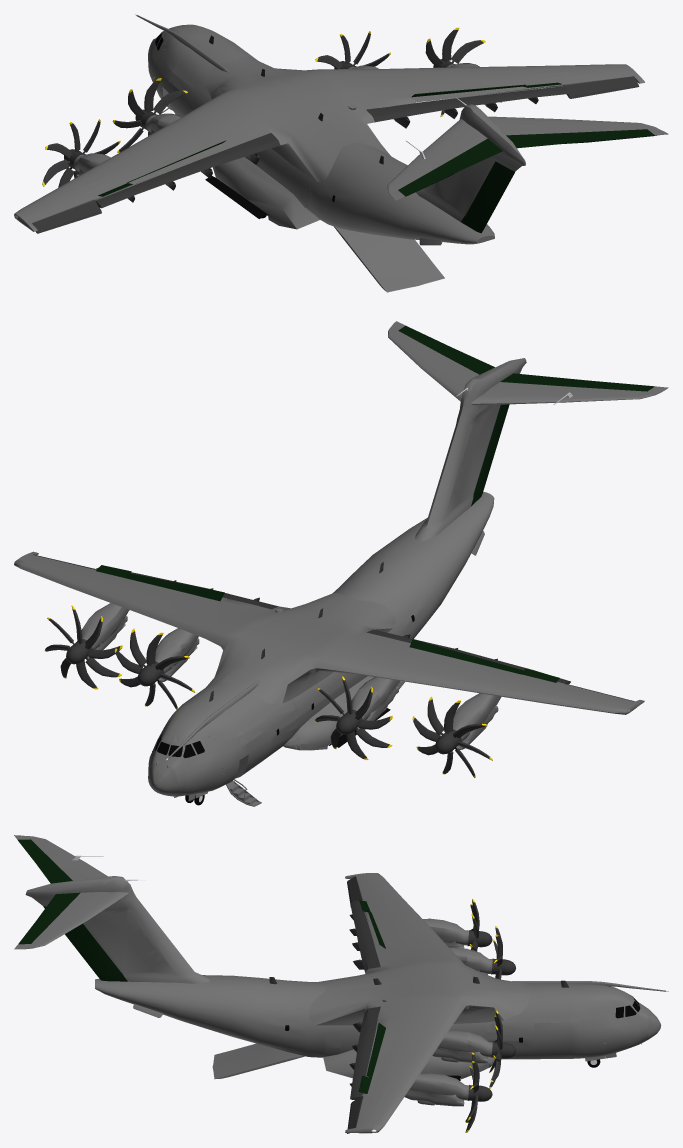
Rendered from airbus_a400m.glb.
3 renders of one model, top to bottom at view 1: azimuth 30°, elevation 25°; view 2: azimuth 150°, elevation 25°; view 3: azimuth 270°, elevation 25°, orthographic. The views are drawn at different scales.
Parts seen in each view (by area): view 1: Mesh130_BODY_0, Mesh177_BODY_0, Mesh161_BODY_0, Mesh153_BODY_0, Mesh6__Charcoal__0, Mesh62__Charcoal__0, Mesh134__LightGray__0, Mesh12__LightGray__0, Mesh13__LightGray__0, Mesh63__Charcoal__0, Mesh7__Charcoal__0, Mesh95_Color_000_0 (+2 smaller); view 2: Mesh130_BODY_0, Mesh177_BODY_0, Mesh161_BODY_0, Mesh138_BODY_0, Mesh13__LightGray__0, Mesh145_BODY_0, Mesh142_BODY_0, Mesh12__LightGray__0, Mesh149_BODY_0, Mesh134__LightGray__0, Mesh64__LightGray__0, Mesh8__LightGray__0 (+1 smaller); view 3: Mesh177_BODY_0, Mesh130_BODY_0, Mesh161_BODY_0, Mesh153_BODY_0, Mesh134__LightGray__0, Mesh145_BODY_0, Mesh62__Charcoal__0, Mesh149_BODY_0, Mesh6__Charcoal__0, Mesh12__LightGray__0, Mesh13__LightGray__0, Mesh142_BODY_0 (+2 smaller).
Boxes of the visible parts, x1,y1,x2,y2 form: Mesh130_BODY_0: (14,56,644,231); Mesh177_BODY_0: (136,15,560,245); Mesh161_BODY_0: (387,104,668,221); Mesh153_BODY_0: (334,226,444,292); Mesh6__Charcoal__0: (95,133,280,208); Mesh62__Charcoal__0: (366,85,570,122); Mesh134__LightGray__0: (461,161,514,233); Mesh12__LightGray__0: (506,129,654,148); Mesh13__LightGray__0: (398,138,502,196); Mesh63__Charcoal__0: (564,76,639,98); Mesh7__Charcoal__0: (32,200,101,233); Mesh95_Color_000_0: (205,176,268,218); Mesh130_BODY_0: (14,551,644,714); Mesh177_BODY_0: (148,491,494,797); Mesh161_BODY_0: (388,321,668,540); Mesh138_BODY_0: (351,677,399,720); Mesh13__LightGray__0: (500,373,654,391); Mesh145_BODY_0: (155,628,198,676); Mesh142_BODY_0: (453,693,501,741); Mesh12__LightGray__0: (398,325,494,374); Mesh149_BODY_0: (81,603,129,649); Mesh134__LightGray__0: (471,404,509,506); Mesh64__LightGray__0: (125,573,224,601); Mesh8__LightGray__0: (409,639,523,674); Mesh177_BODY_0: (95,975,665,1094); Mesh130_BODY_0: (308,873,529,1133); Mesh161_BODY_0: (14,835,210,983); Mesh153_BODY_0: (212,1043,304,1079); Mesh134__LightGray__0: (43,906,127,981); Mesh145_BODY_0: (432,1030,492,1063); Mesh62__Charcoal__0: (350,1006,380,1099); Mesh149_BODY_0: (409,1073,468,1100); Mesh6__Charcoal__0: (350,900,380,971); Mesh12__LightGray__0: (18,892,80,944); Mesh13__LightGray__0: (18,839,72,883); Mesh142_BODY_0: (423,918,468,945).
Size of the model in its own units: 0.4288 by 0.1478 by 0.4609.
